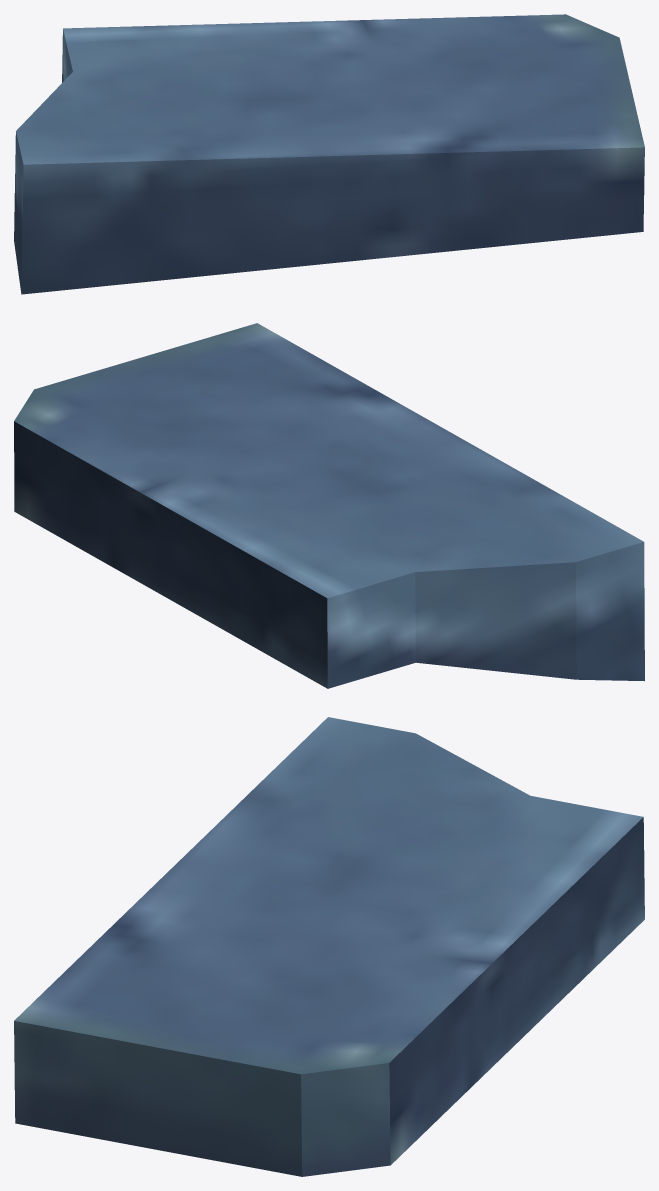
File: Area07_23.fbx
3 views of the same model, one above another, from view 1: azimuth 30°, elevation 25°; view 2: azimuth 150°, elevation 25°; view 3: azimuth 270°, elevation 25° (orthographic). The views are drawn at different scales.
Parts seen in each view (by area): view 1: Area07_23; view 2: Area07_23; view 3: Area07_23.
Part boxes in pixels (x1,y1,x2,y2): Area07_23: [14, 14, 644, 294]; Area07_23: [14, 323, 644, 688]; Area07_23: [14, 717, 644, 1176].
Size of the model in its own units: 209 by 44.41 by 160.
Materials: 1 (1 with a texture image).
